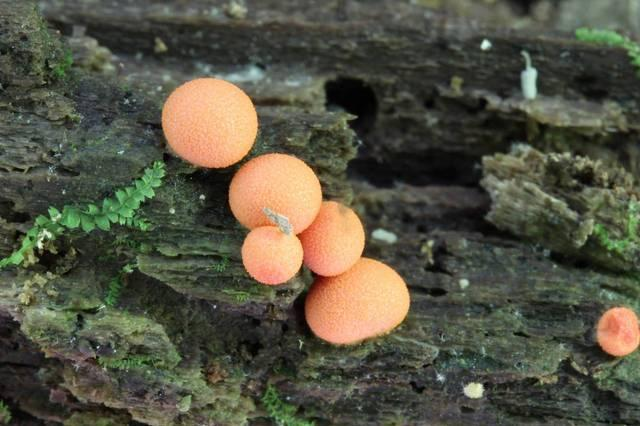Non-edible Mushroom: (159, 75, 412, 345), (303, 256, 410, 345), (160, 76, 259, 168), (227, 151, 322, 234), (299, 199, 365, 277), (240, 224, 304, 285), (594, 305, 639, 357)
